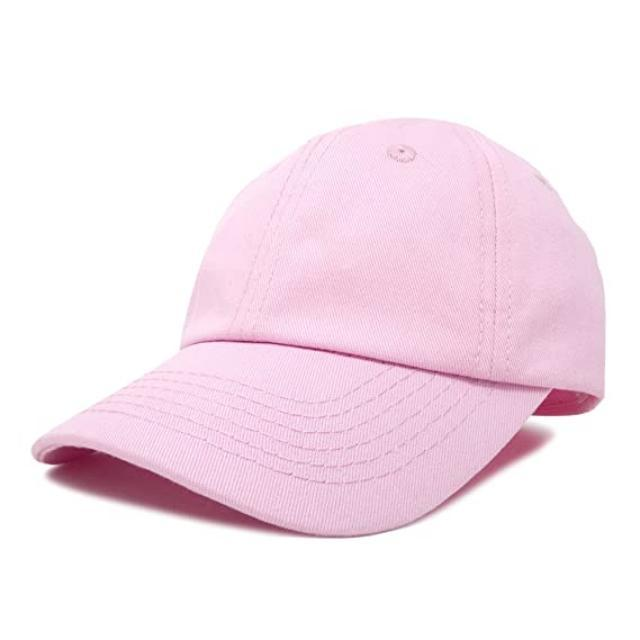cap: (18, 114, 625, 548)
